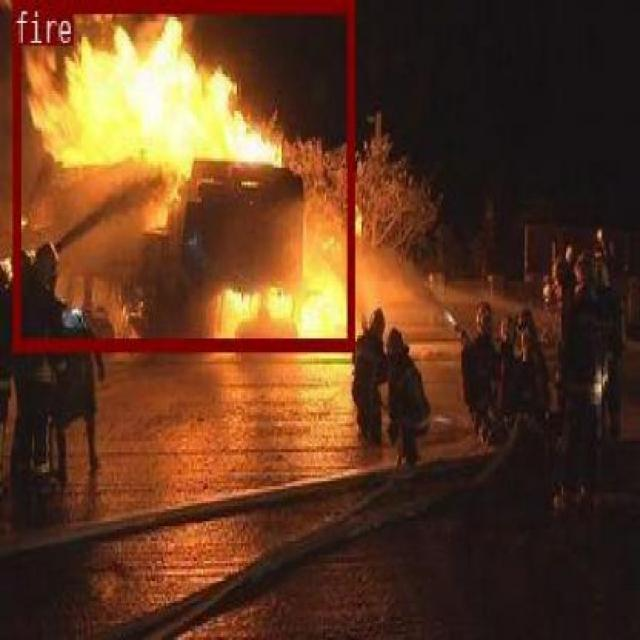Fire: (11, 0, 352, 349)
